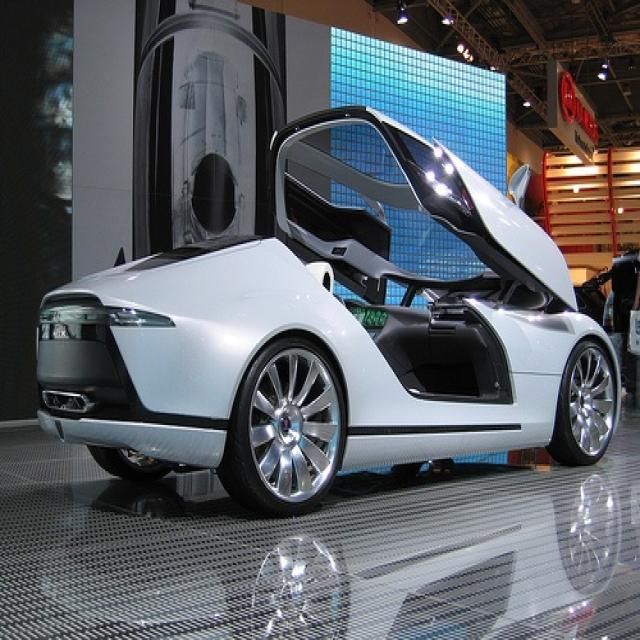car: (27, 102, 621, 524)
